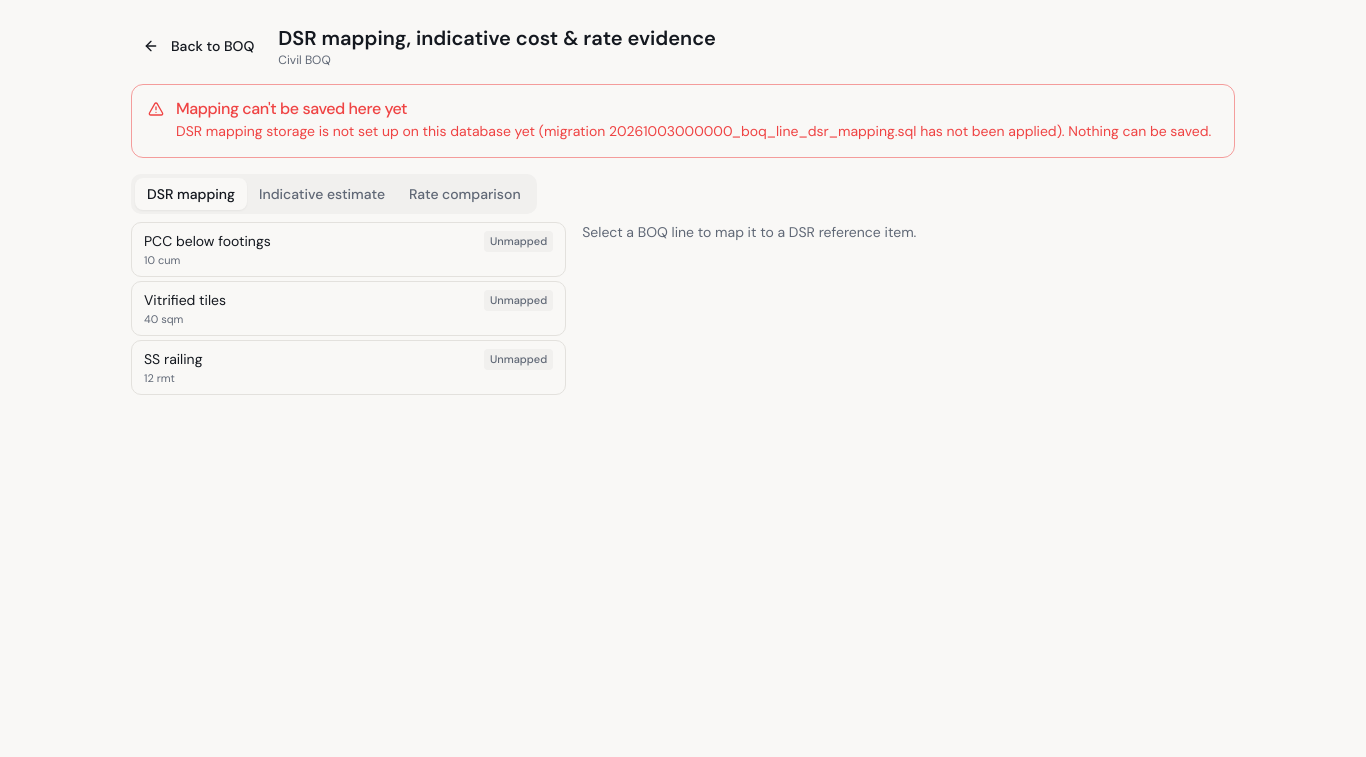
BoqDsrMapping — mapping › when the mapping table isn't migrated, explains it and disables every decision
Expected: the text "has not been applied" is shown, [176, 122, 1211, 140]
Click the button "SS railing Unmapped 12 rmt": (173, 359) [131, 340, 566, 395]
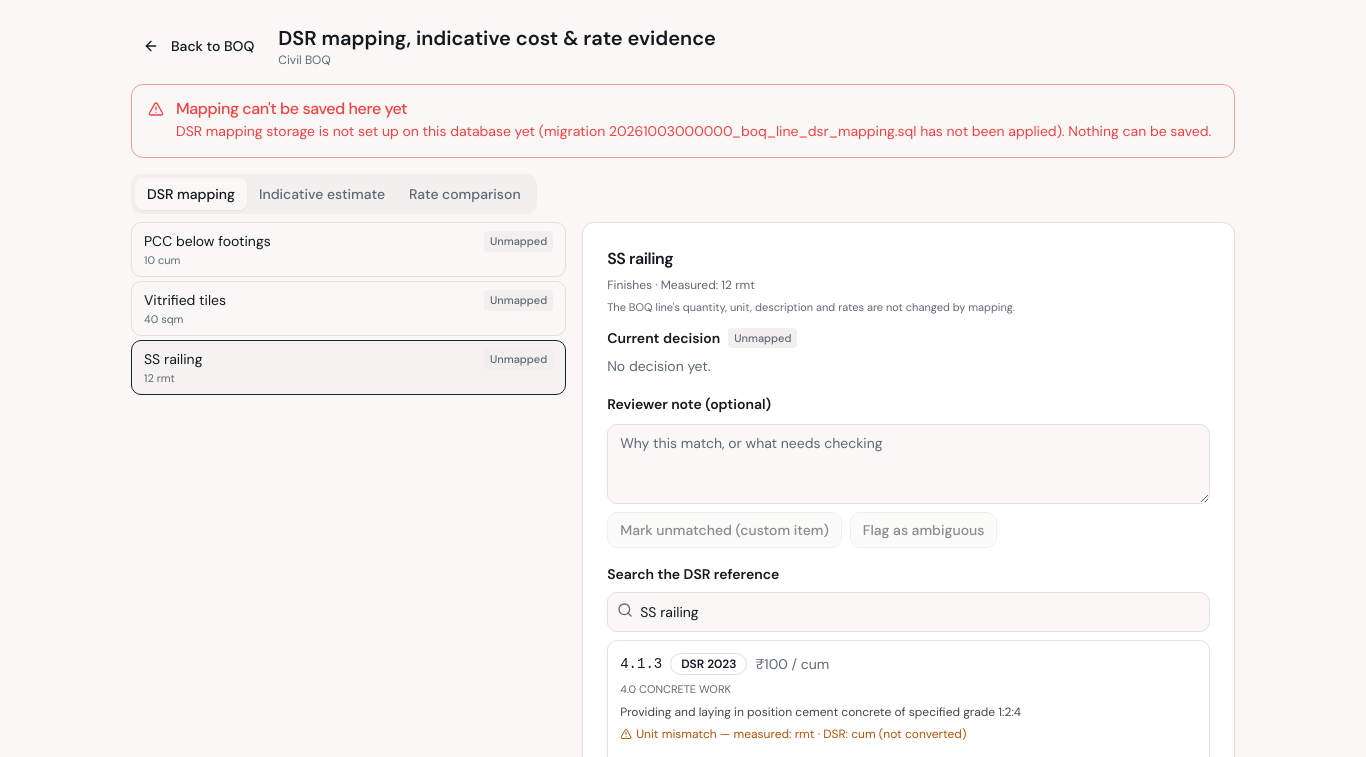
Expected: the button "Mark unmatched (custom item)" is disabled, [607, 512, 842, 548]
Expected: the button "Flag as ambiguous" is disabled, [850, 512, 998, 548]
